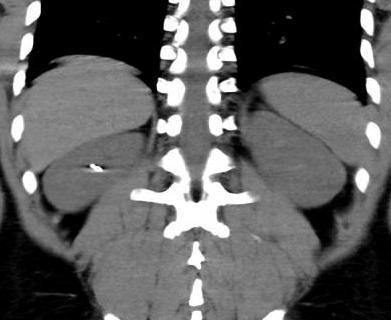Tas_Var: (90, 163, 104, 173)
